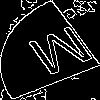M: (24, 25, 100, 85)
